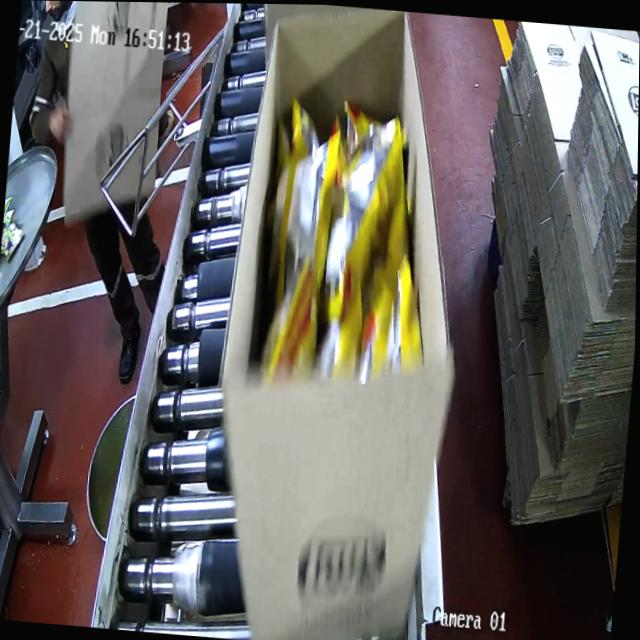SALTED: (253, 89, 435, 391)
